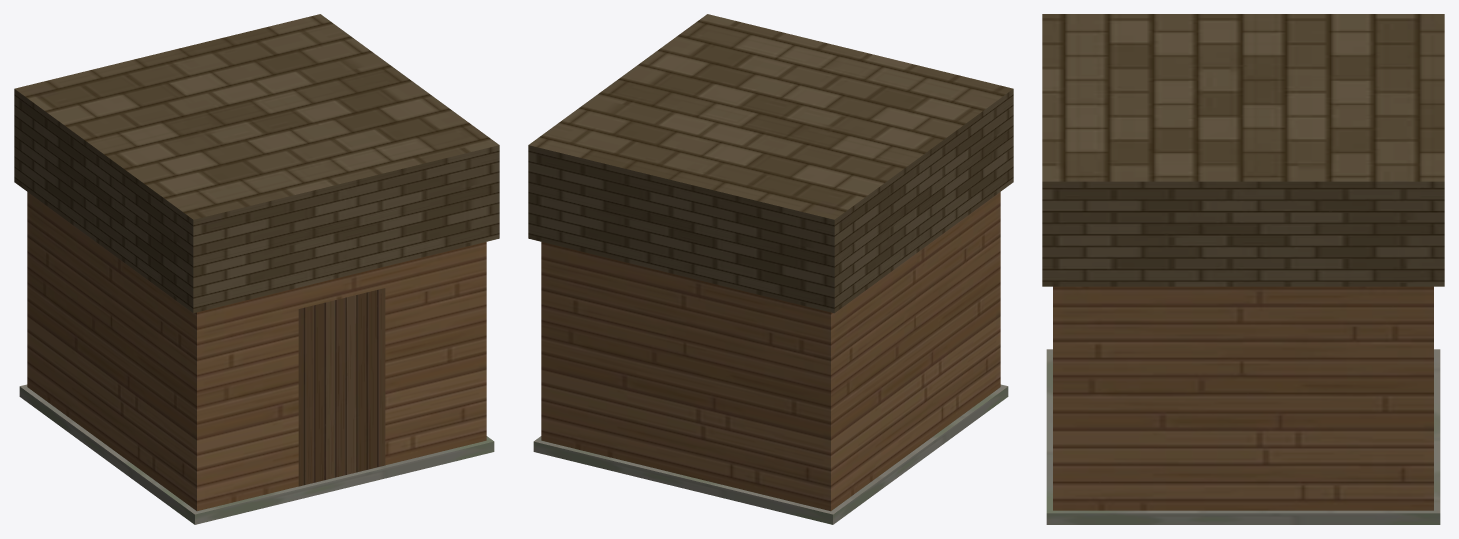
Rendered from house_hut_b_lod1.glb.
The picture shows the model from 3 angles, left to right: view 1: azimuth 30°, elevation 25°; view 2: azimuth 150°, elevation 25°; view 3: azimuth 270°, elevation 25°; orthographic projection. The views are drawn at different scales.
Parts seen in each view (by area): view 1: ae_forest_house_hut_b_lod1; view 2: ae_forest_house_hut_b_lod1; view 3: ae_forest_house_hut_b_lod1.
Boxes of the visible parts, x1,y1,x2,y2 form: ae_forest_house_hut_b_lod1: [14, 14, 499, 524]; ae_forest_house_hut_b_lod1: [528, 14, 1013, 524]; ae_forest_house_hut_b_lod1: [1042, 14, 1444, 524].
Size of the model in its own units: 3.7 by 3.55 by 3.75.
Materials: 1 (1 with a texture image).
